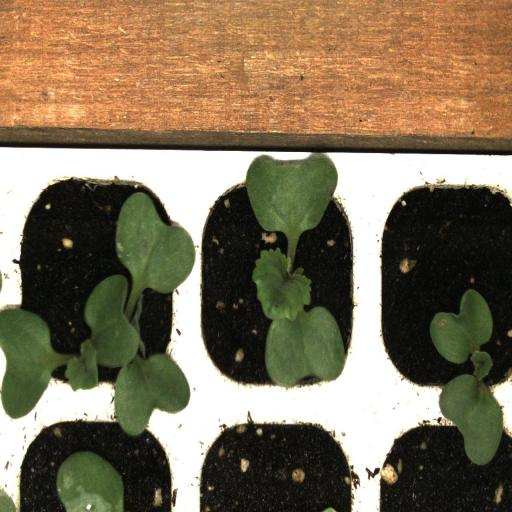Folha: (430, 289, 503, 466), (56, 451, 124, 512)
Germinacao: (185, 162, 367, 401), (8, 162, 185, 401), (369, 164, 512, 398)
